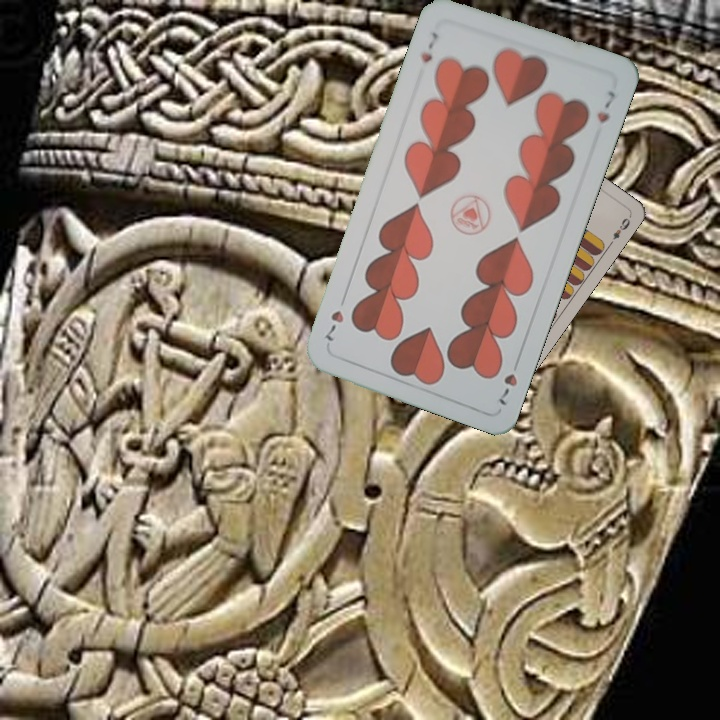H7: (495, 353, 523, 408), (416, 27, 442, 65)
